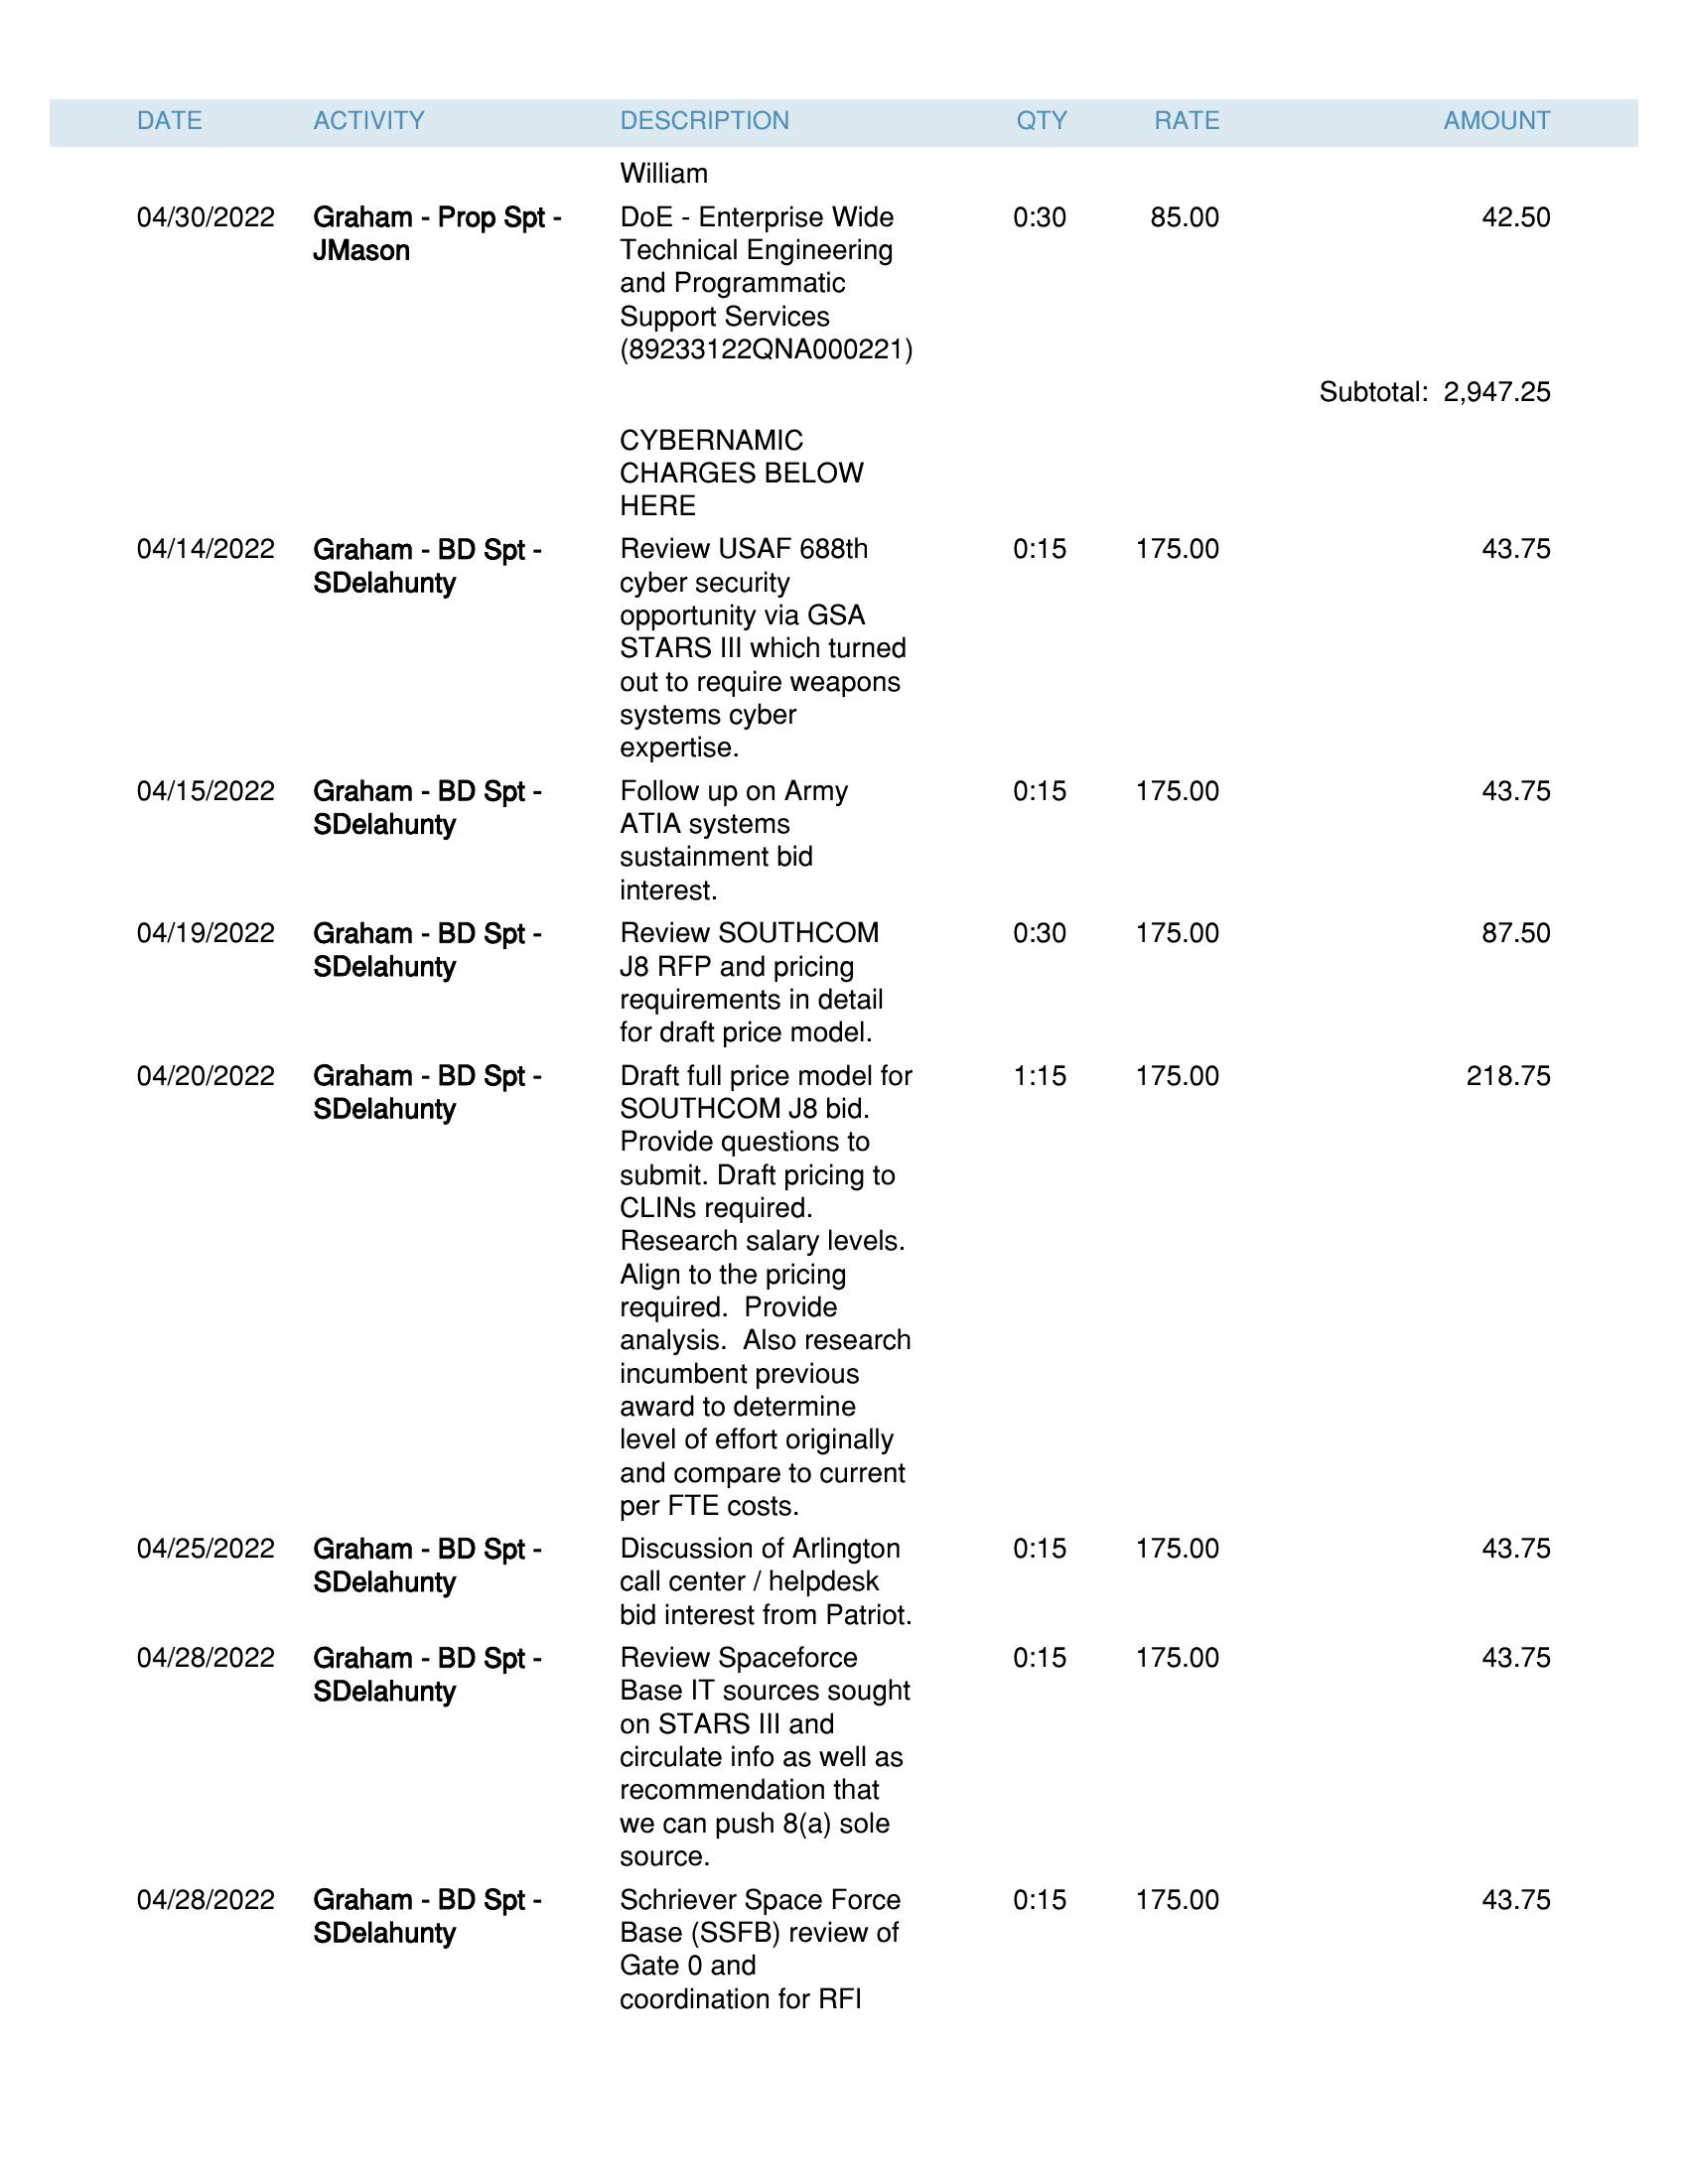table: (48, 78, 1642, 2049)
